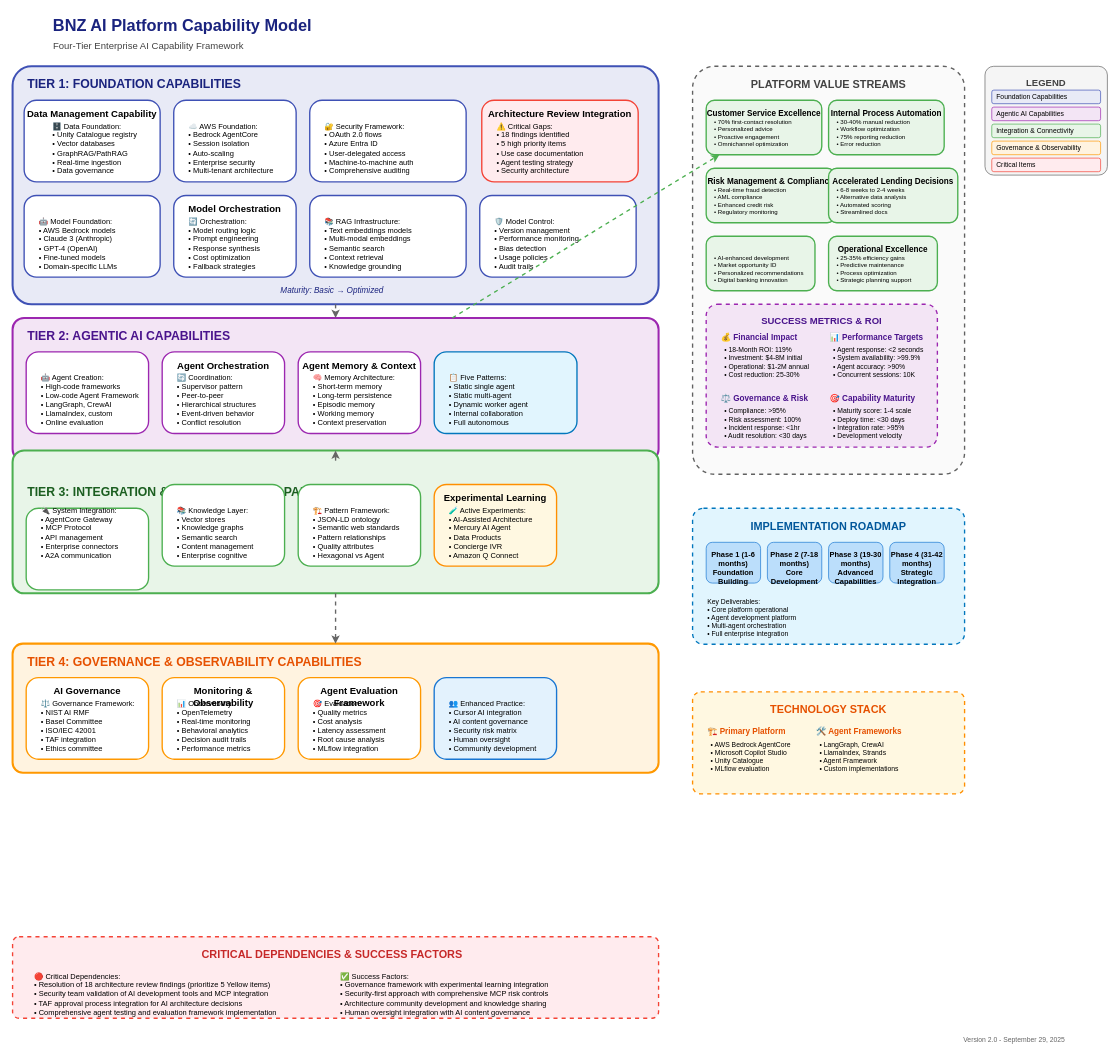
This 1119x1057 diagram has some shape labels left out. Each missing label, with the box of its shape:
Agent Development Framework: (25, 351, 149, 434)
AI-Enhanced Architecture Practice: (433, 677, 557, 760)
Architecture Pattern Ontology: (297, 483, 421, 566)
Canonical Agentic Patterns: (433, 351, 577, 434)
Embeddings & RAG: (309, 194, 466, 277)
Enterprise Integration: (25, 507, 149, 590)
Identity & Access Management: (309, 99, 466, 182)
Infrastructure Readiness: (173, 99, 296, 182)
Knowledge Management: (161, 483, 285, 566)
LLMs & AI Models: (23, 194, 160, 277)
Model Governance: (479, 194, 636, 277)
Product Innovation: (705, 235, 815, 291)
